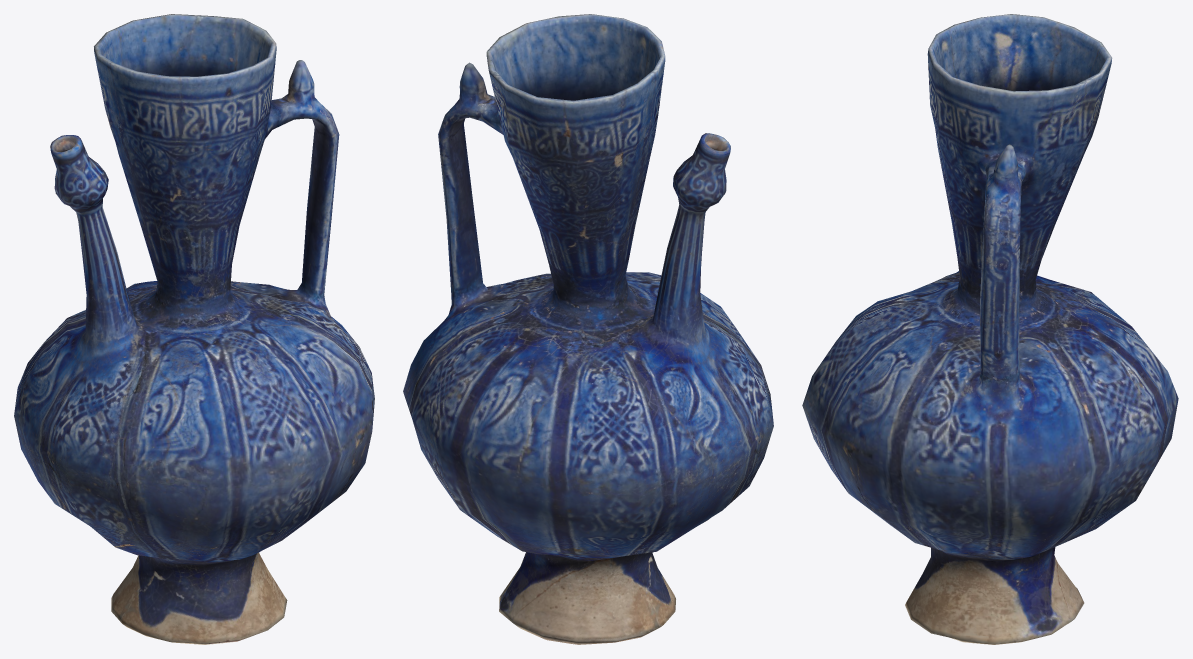
The model's file is Kashan Vase.fbx.
3 renders of one model, left to right at view 1: azimuth 30°, elevation 25°; view 2: azimuth 150°, elevation 25°; view 3: azimuth 270°, elevation 25°, orthographic.
Visible parts, largest first — view 1: Kashan Vase; view 2: Kashan Vase; view 3: Kashan Vase.
Boxes of the visible parts, bbox=[...] form: Kashan Vase: bbox=[14, 14, 374, 644]; Kashan Vase: bbox=[403, 14, 773, 644]; Kashan Vase: bbox=[802, 14, 1178, 644].
Size of the model in its own units: 14.63 by 24.88 by 15.1.
